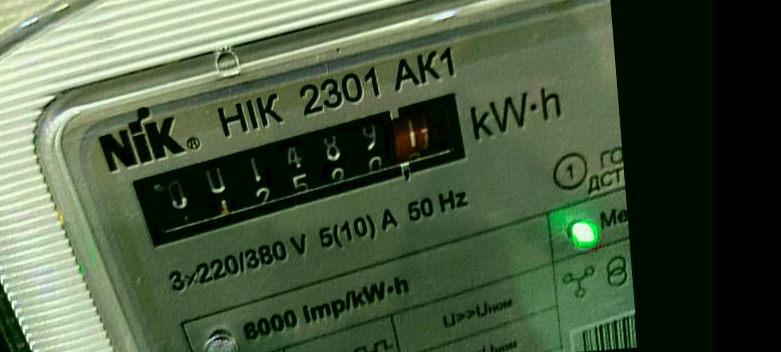0: (200, 159, 229, 197), (164, 176, 190, 213)
1: (400, 111, 422, 151), (244, 152, 266, 184)
4: (281, 138, 305, 171)
8: (320, 127, 344, 165)
9: (359, 118, 381, 152)
screen: (115, 80, 501, 260)
